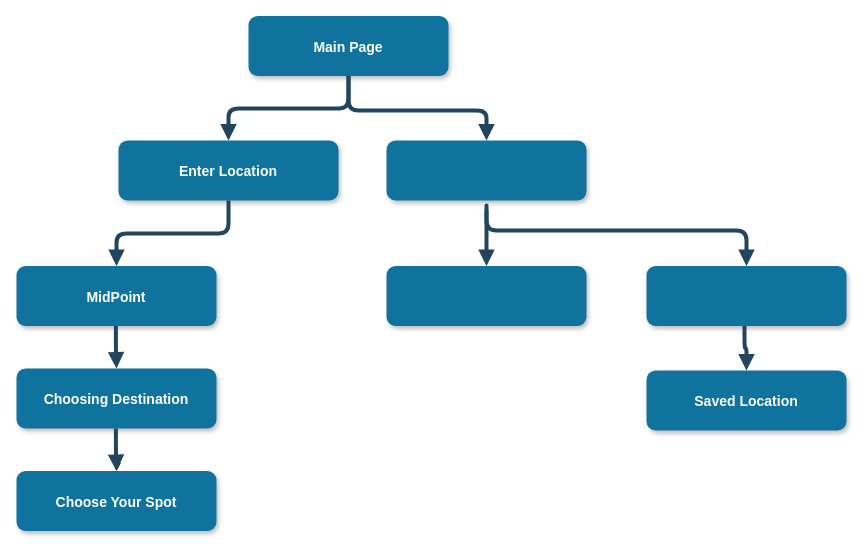
This 863x547 diagram has some shape labels left out. The centre of each missing label's shape, as x and y in pixels:
Account Page: (x=747, y=297)
Create Account: (x=487, y=297)
Login Page: (x=487, y=171)
